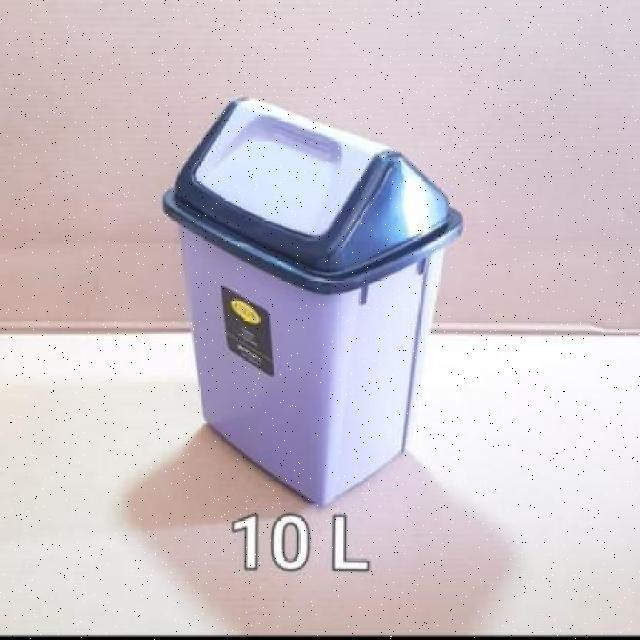garbage container: (153, 86, 479, 515)
